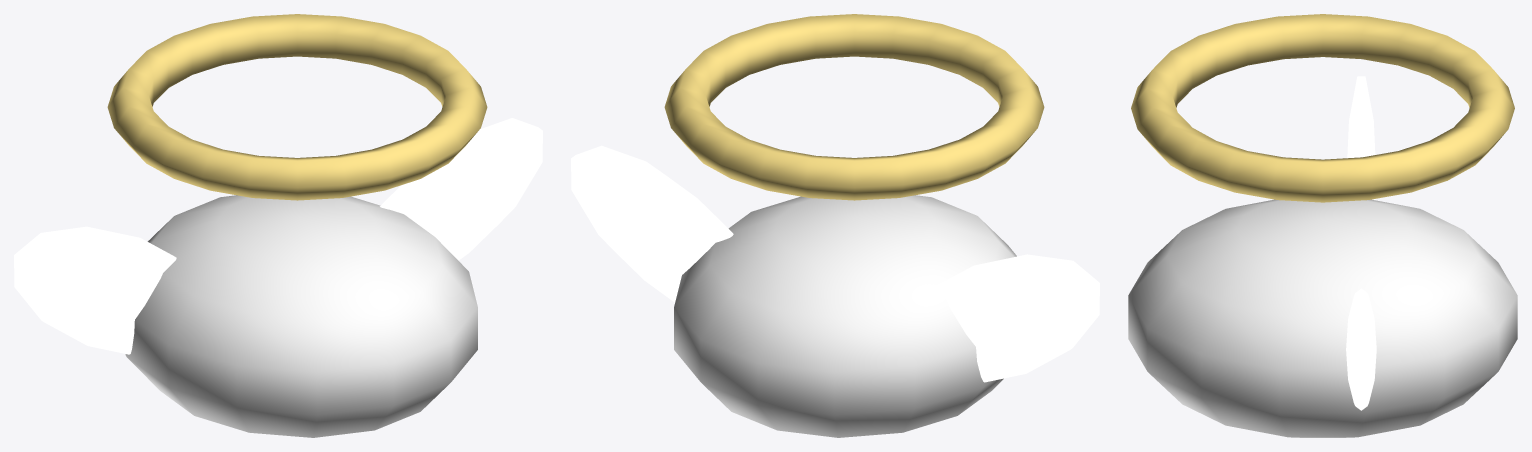
Rendered from equip_hat_4.glb.
3 views of the same model, side by side, from view 1: azimuth 30°, elevation 25°; view 2: azimuth 150°, elevation 25°; view 3: azimuth 270°, elevation 25° (orthographic).
Parts seen in each view (by area): view 1: torus; view 2: torus; view 3: torus.
Boxes of the visible parts, box(x1,y1,x2,y2) form: torus: box(14, 14, 542, 437); torus: box(571, 14, 1099, 437); torus: box(1128, 14, 1517, 437).
Bounding box in the file's own units: 0.7968 × 0.4685 × 0.507.
